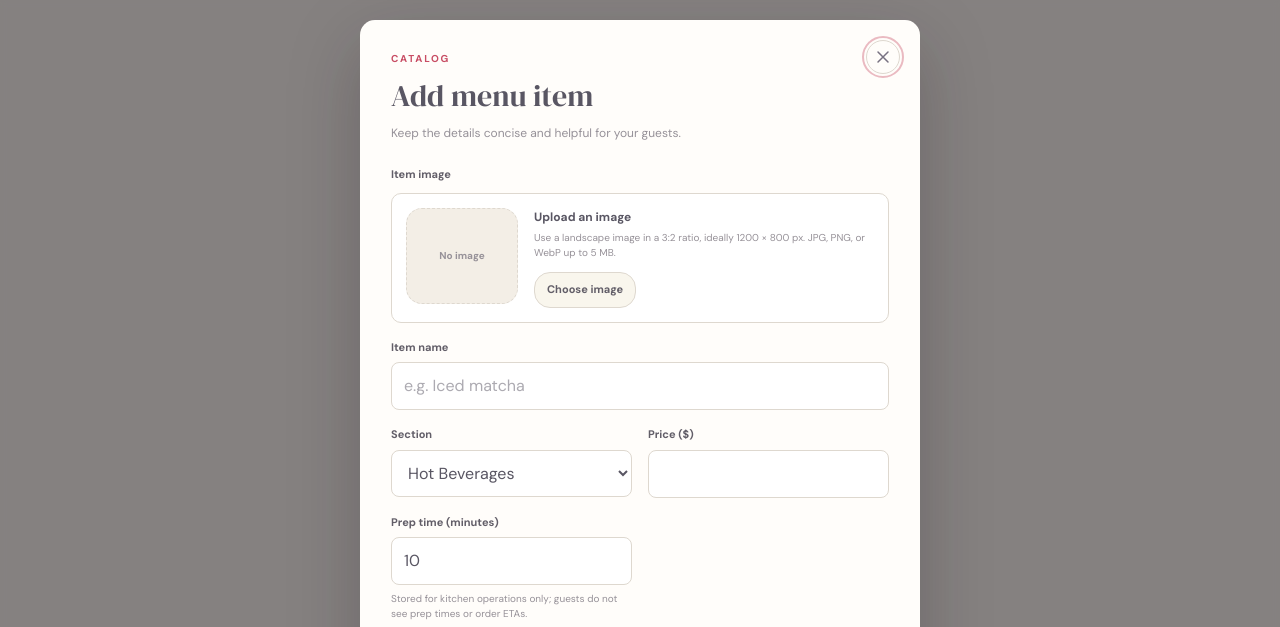
Test case: ItemModal › rejects an invalid prep time
Type "Matcha" into the field labelled "Item name" at (640, 386), box [391,362,889,410]
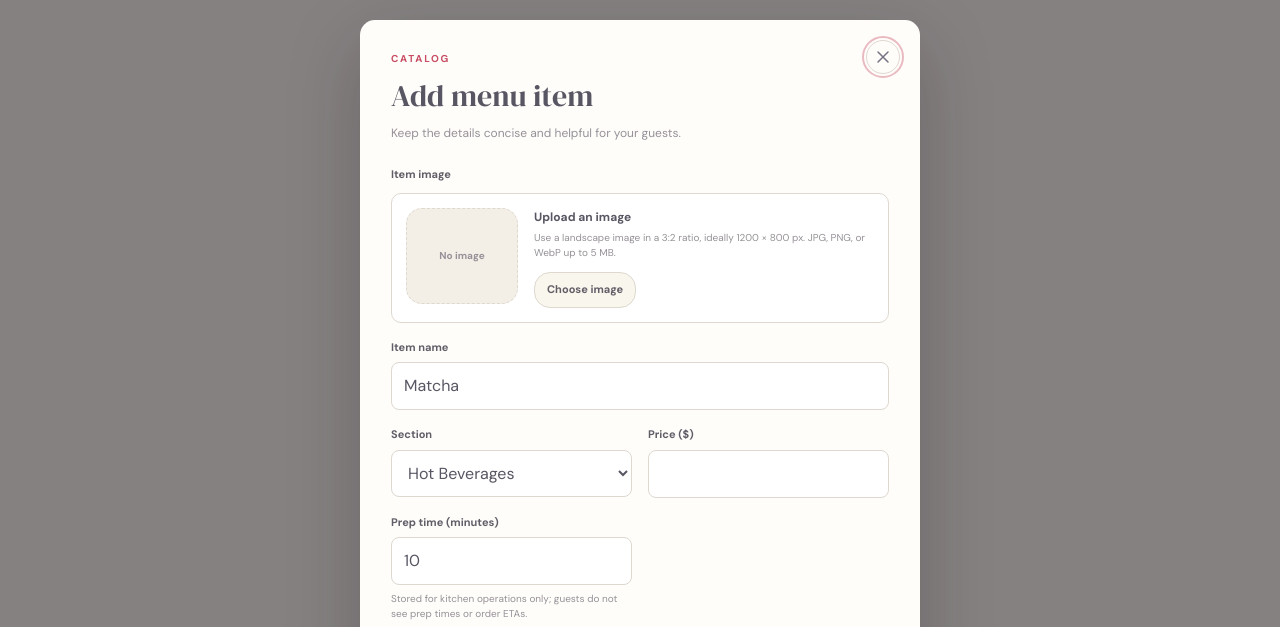
Type "5.80" into the number field labelled "Price ($)" at (768, 474), box [648,450,889,498]
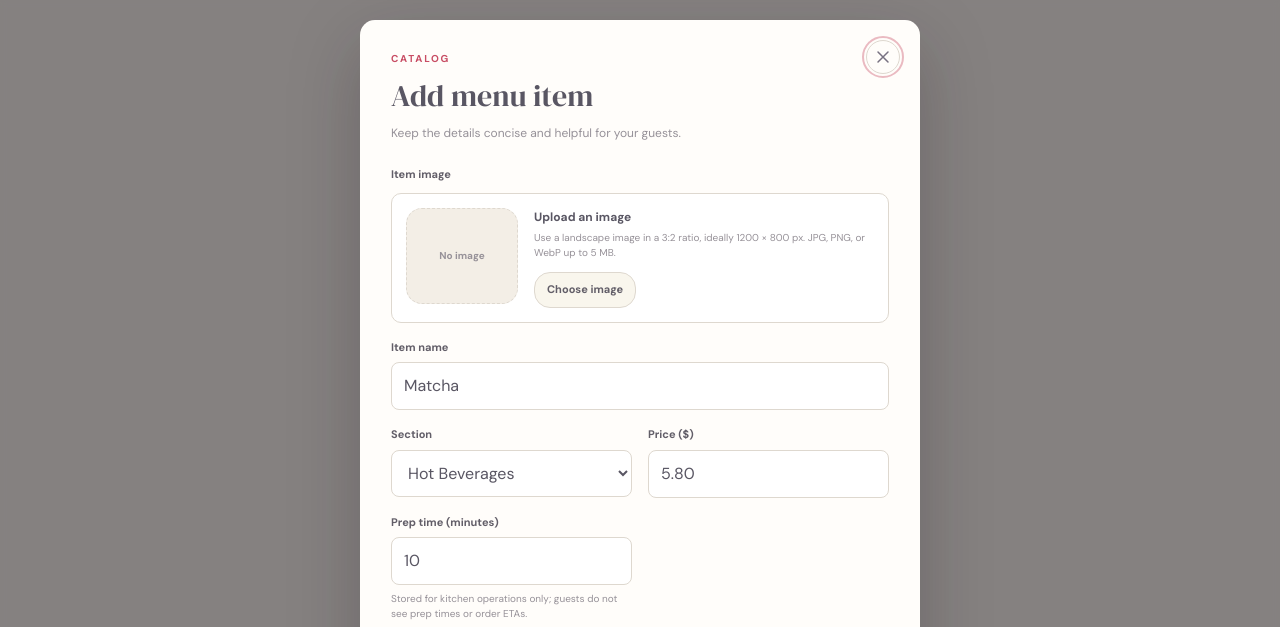
Replace the text in the number field labelled "Prep time" with "-1" at (512, 561), box [391,537,632,585]
(page scrolled)
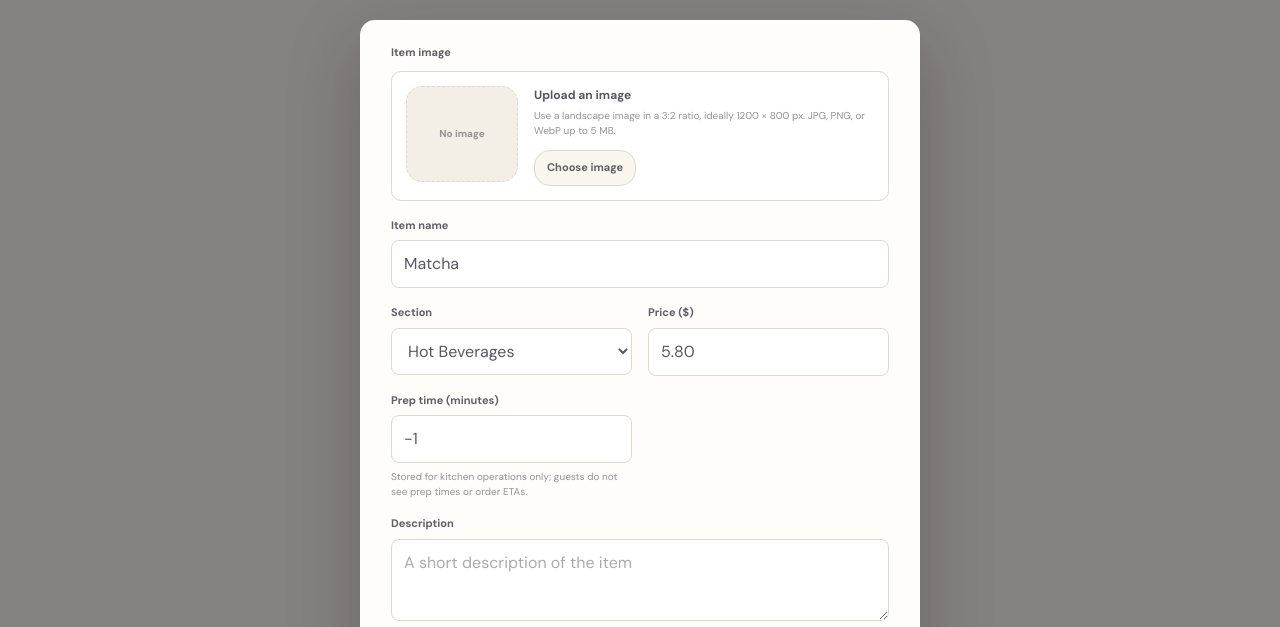
Submit the form
(page scrolled)
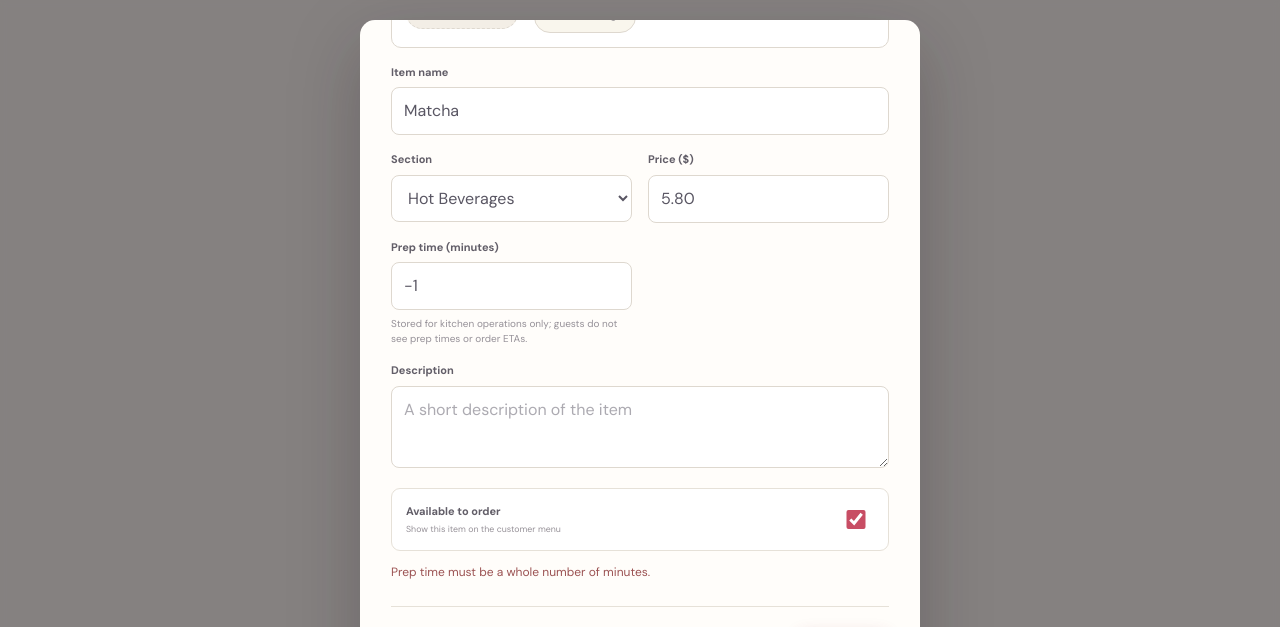
Expected: the text "Prep time must be a whole number of minutes." is shown, [391,564,650,580]
